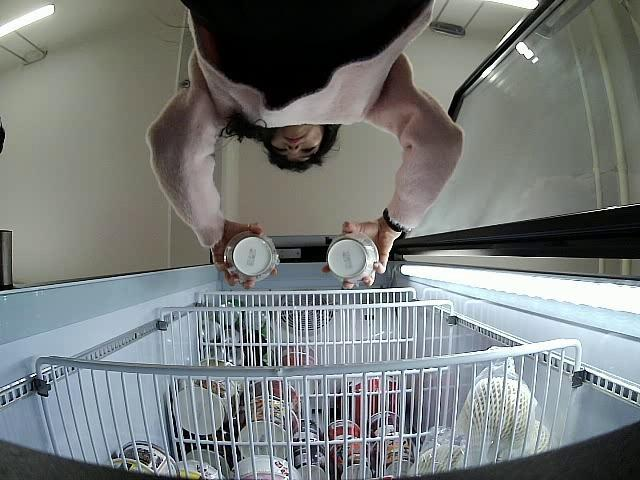04_chapagetti_S: (222, 228, 278, 286), (326, 228, 380, 283)
